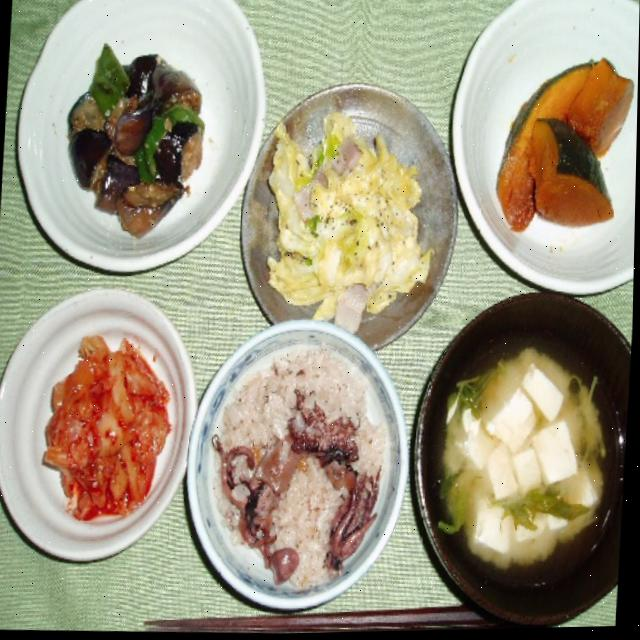鸡蛋料理: (39, 11, 235, 245)
